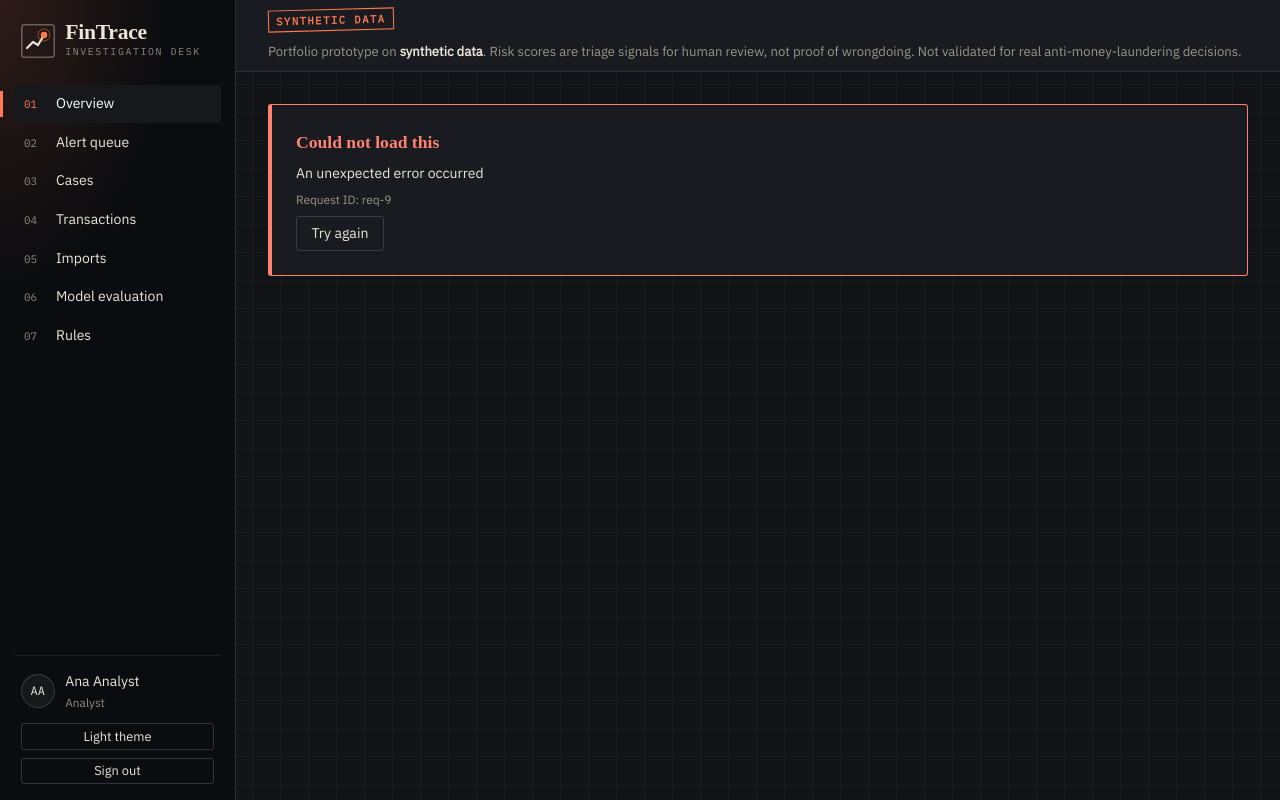
Test: overview › shows an error with the request ID and retries
Expected: the text "Request ID: req-9" is shown, [296, 191, 392, 210]
Click the button "Try again": [340, 234] box [296, 216, 384, 251]
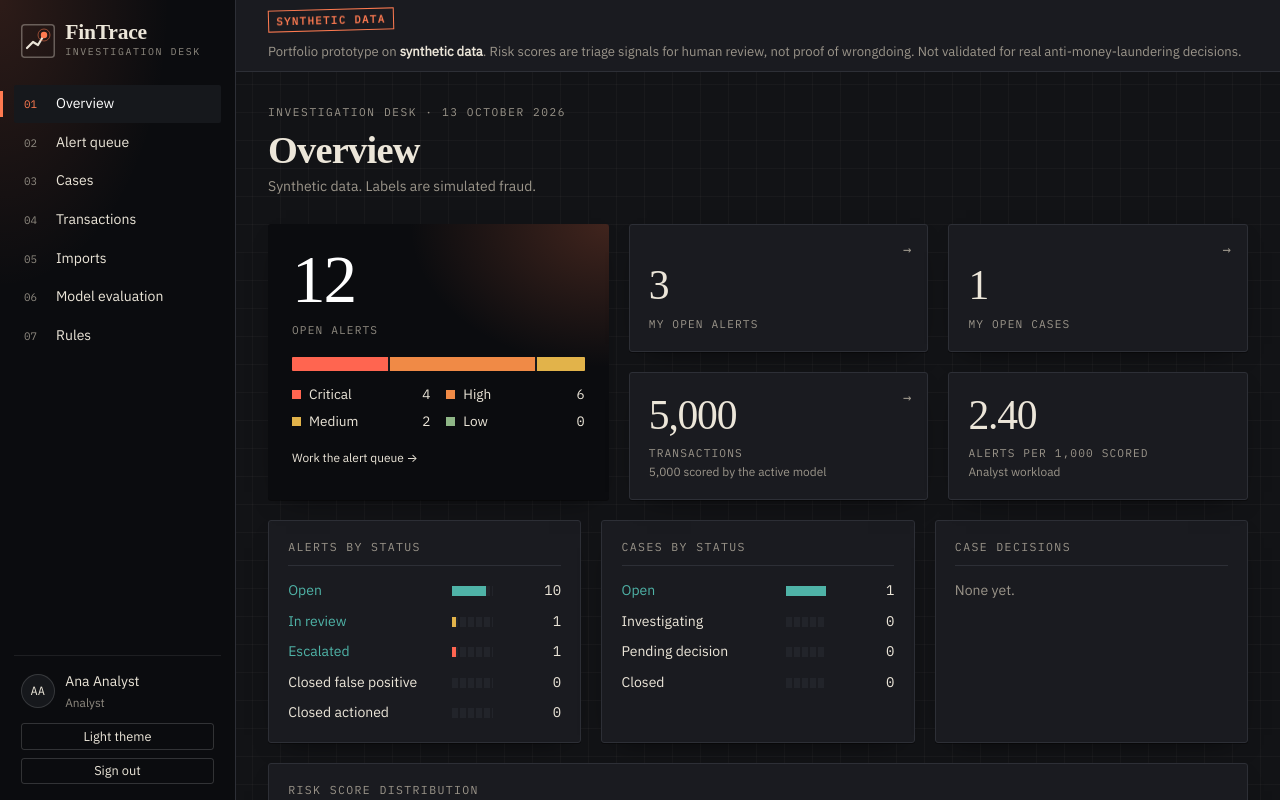
Expected: the text "My open alerts" is shown, [649, 317, 758, 331]
